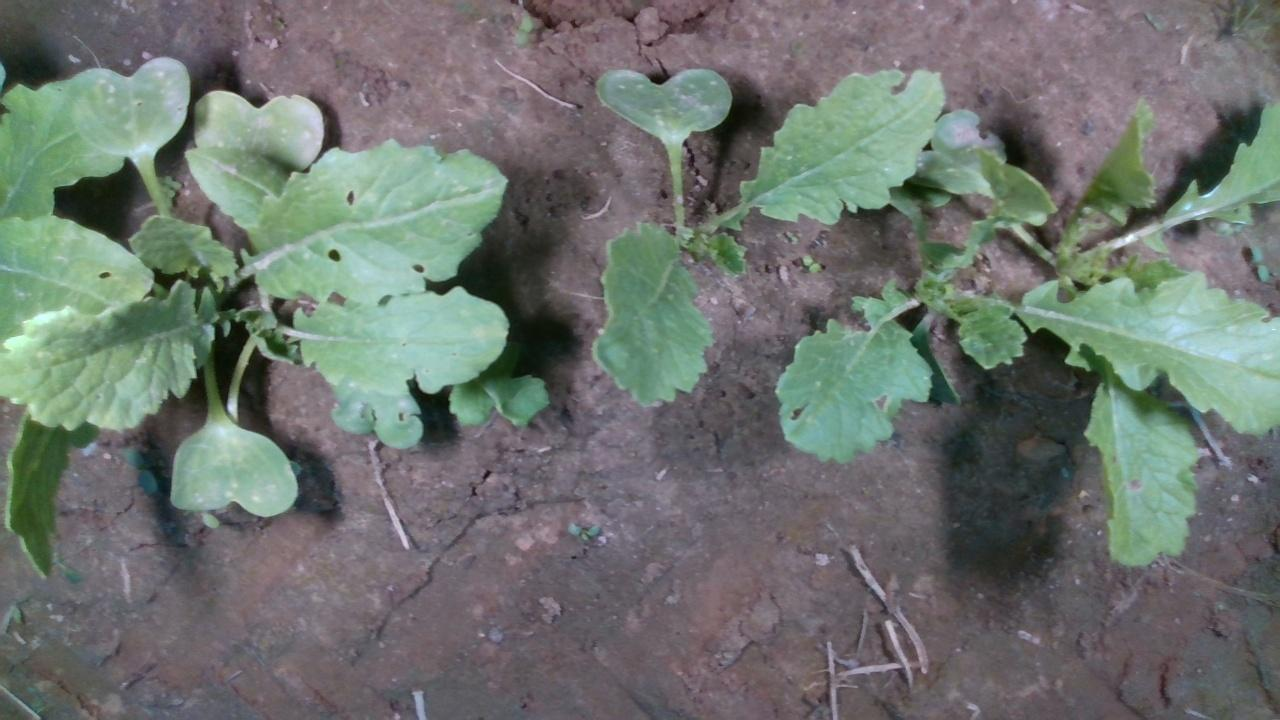weed: (1246, 241, 1269, 286), (566, 519, 601, 540), (800, 251, 822, 273)
